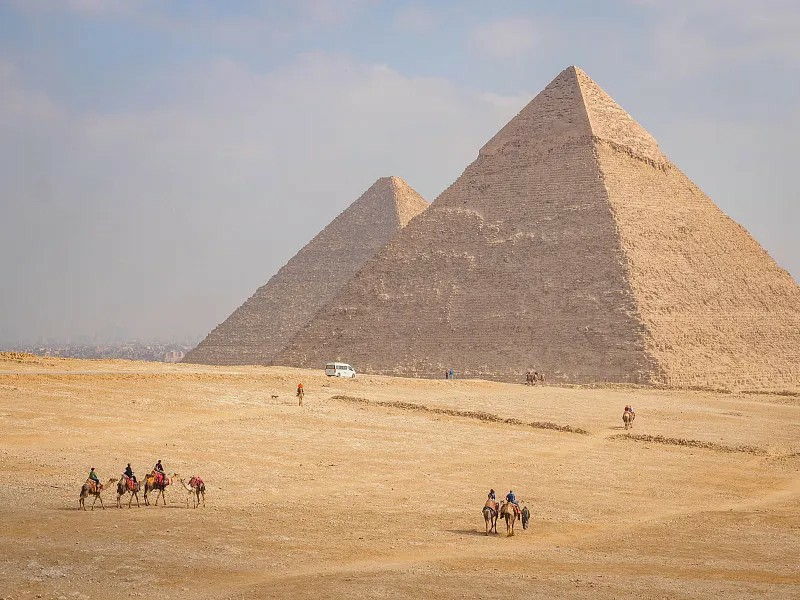Pyramid: (259, 65, 800, 397), (174, 176, 429, 365)
